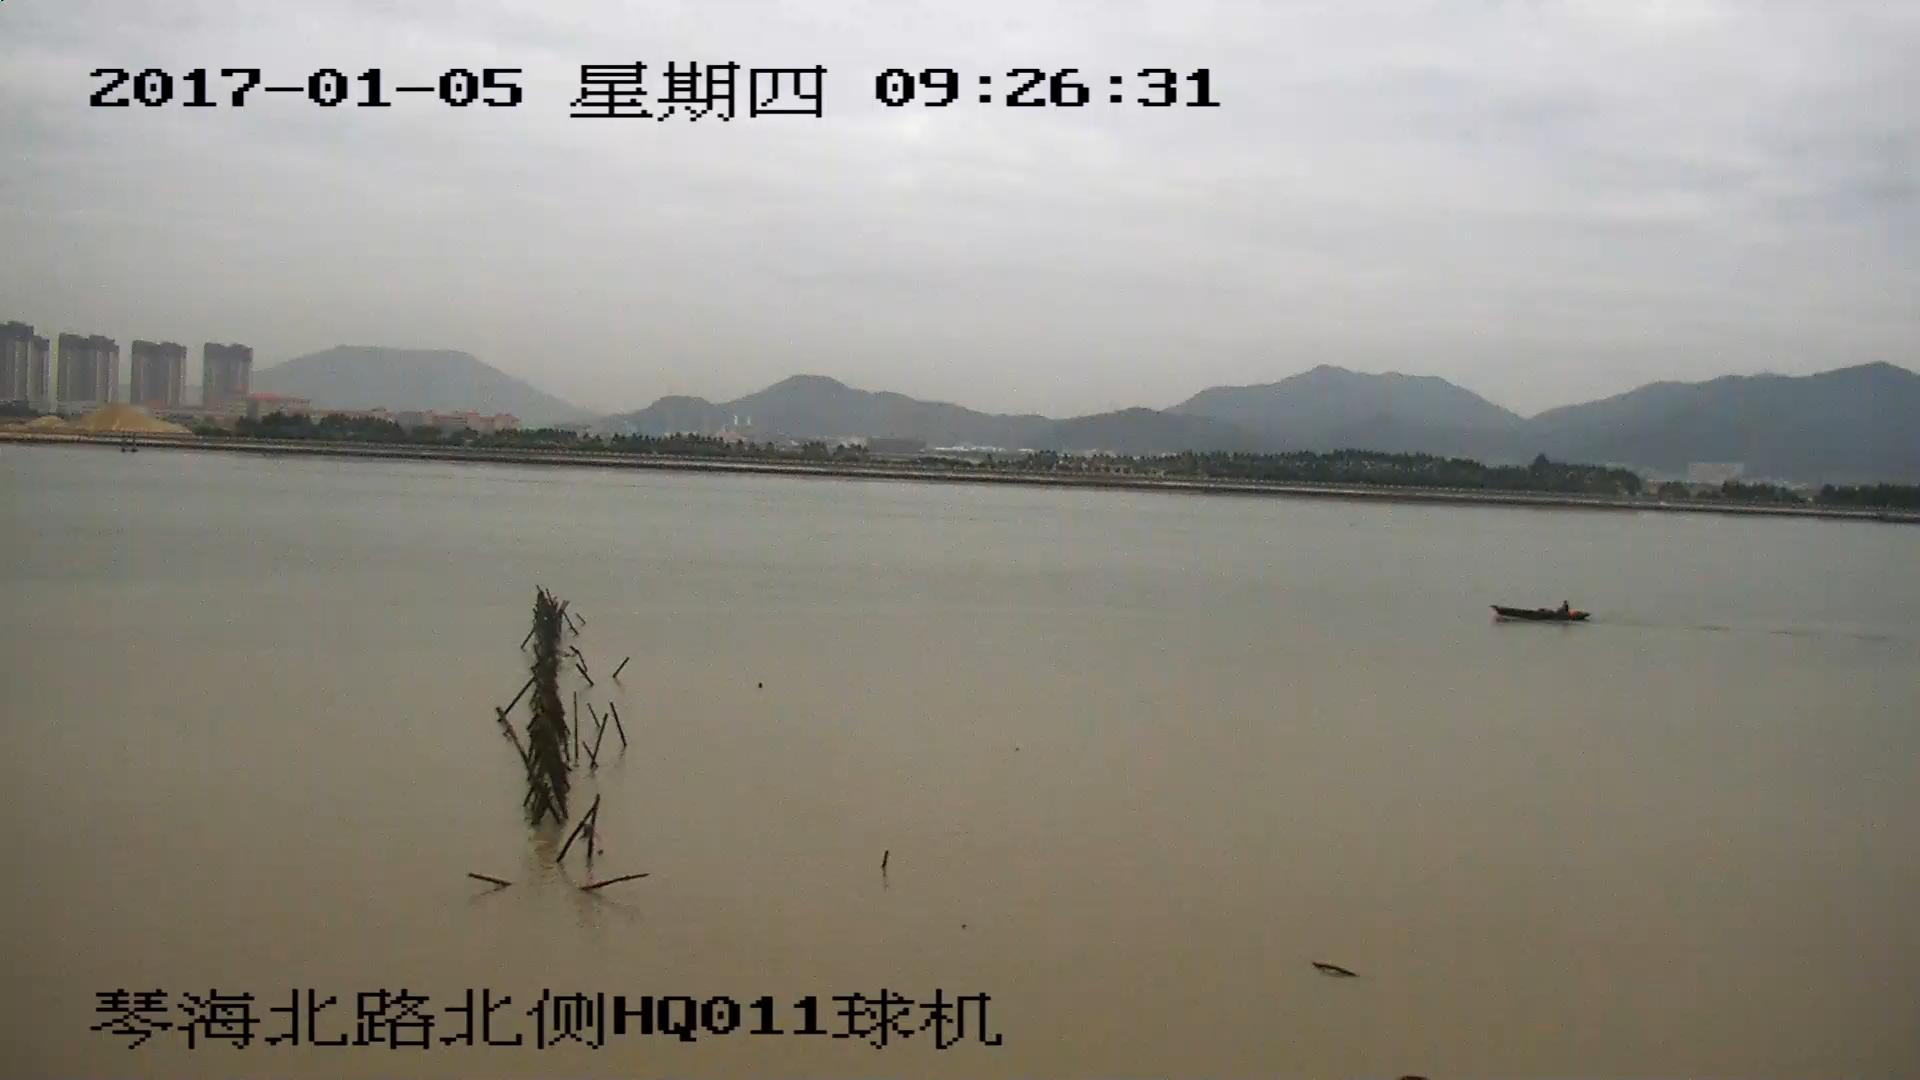fishing boat: (1491, 597, 1587, 623)
